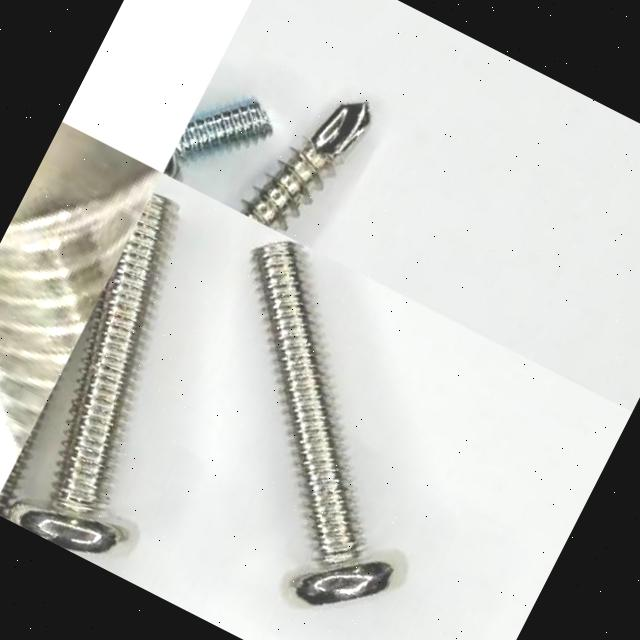Screw: (9, 194, 176, 554), (0, 122, 163, 466), (253, 242, 394, 606), (239, 104, 371, 231), (163, 99, 272, 182)
